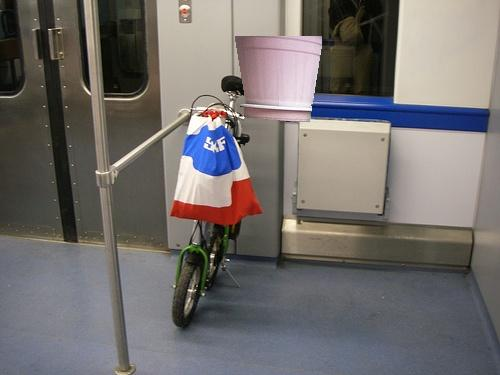tampered: (236, 37, 322, 122)
